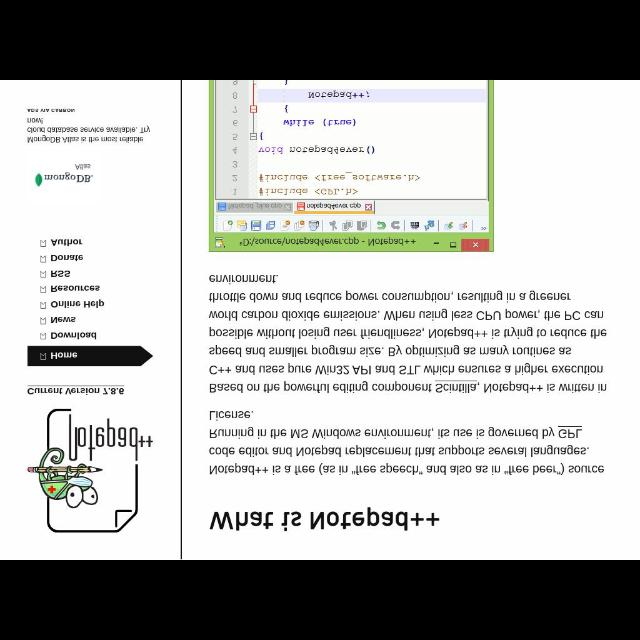icon: (38, 316, 48, 328), (38, 302, 48, 312), (38, 288, 48, 298), (38, 268, 48, 278), (40, 256, 49, 264), (40, 352, 46, 362), (38, 332, 48, 338), (40, 242, 46, 250)
image: (210, 80, 492, 250), (26, 408, 156, 532), (27, 160, 97, 186)
panel: (29, 236, 158, 368)
text: (207, 272, 618, 476), (204, 504, 440, 536), (28, 106, 154, 146), (27, 384, 128, 398), (51, 296, 105, 314), (52, 328, 100, 346), (50, 283, 106, 297), (52, 237, 84, 249), (49, 348, 83, 359), (51, 254, 88, 264), (50, 316, 78, 326), (51, 270, 75, 280)
